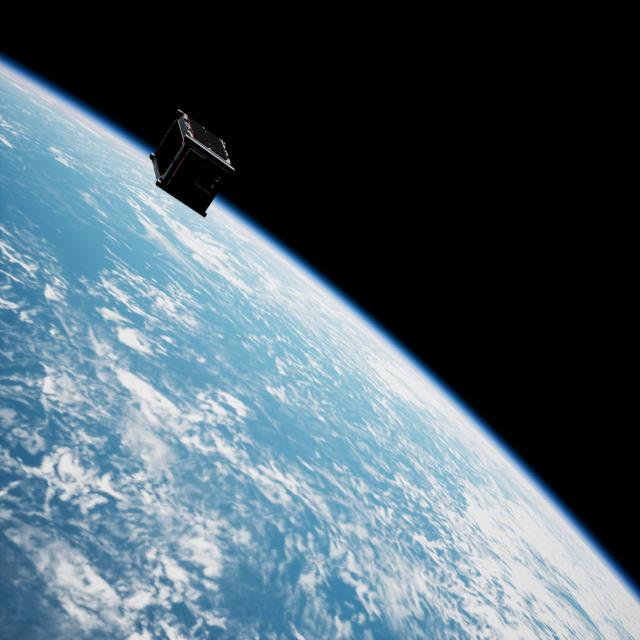satellite: (146, 108, 236, 225)
